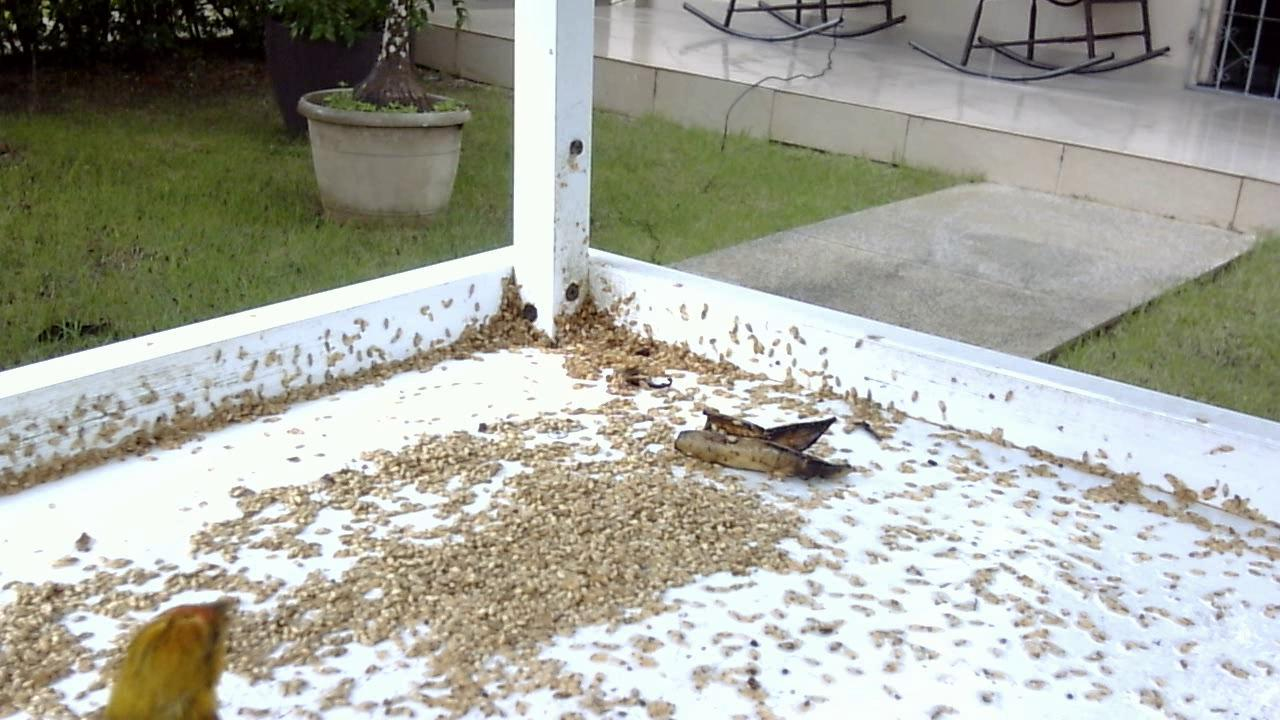canario_do_amazonas: (88, 589, 252, 716)
